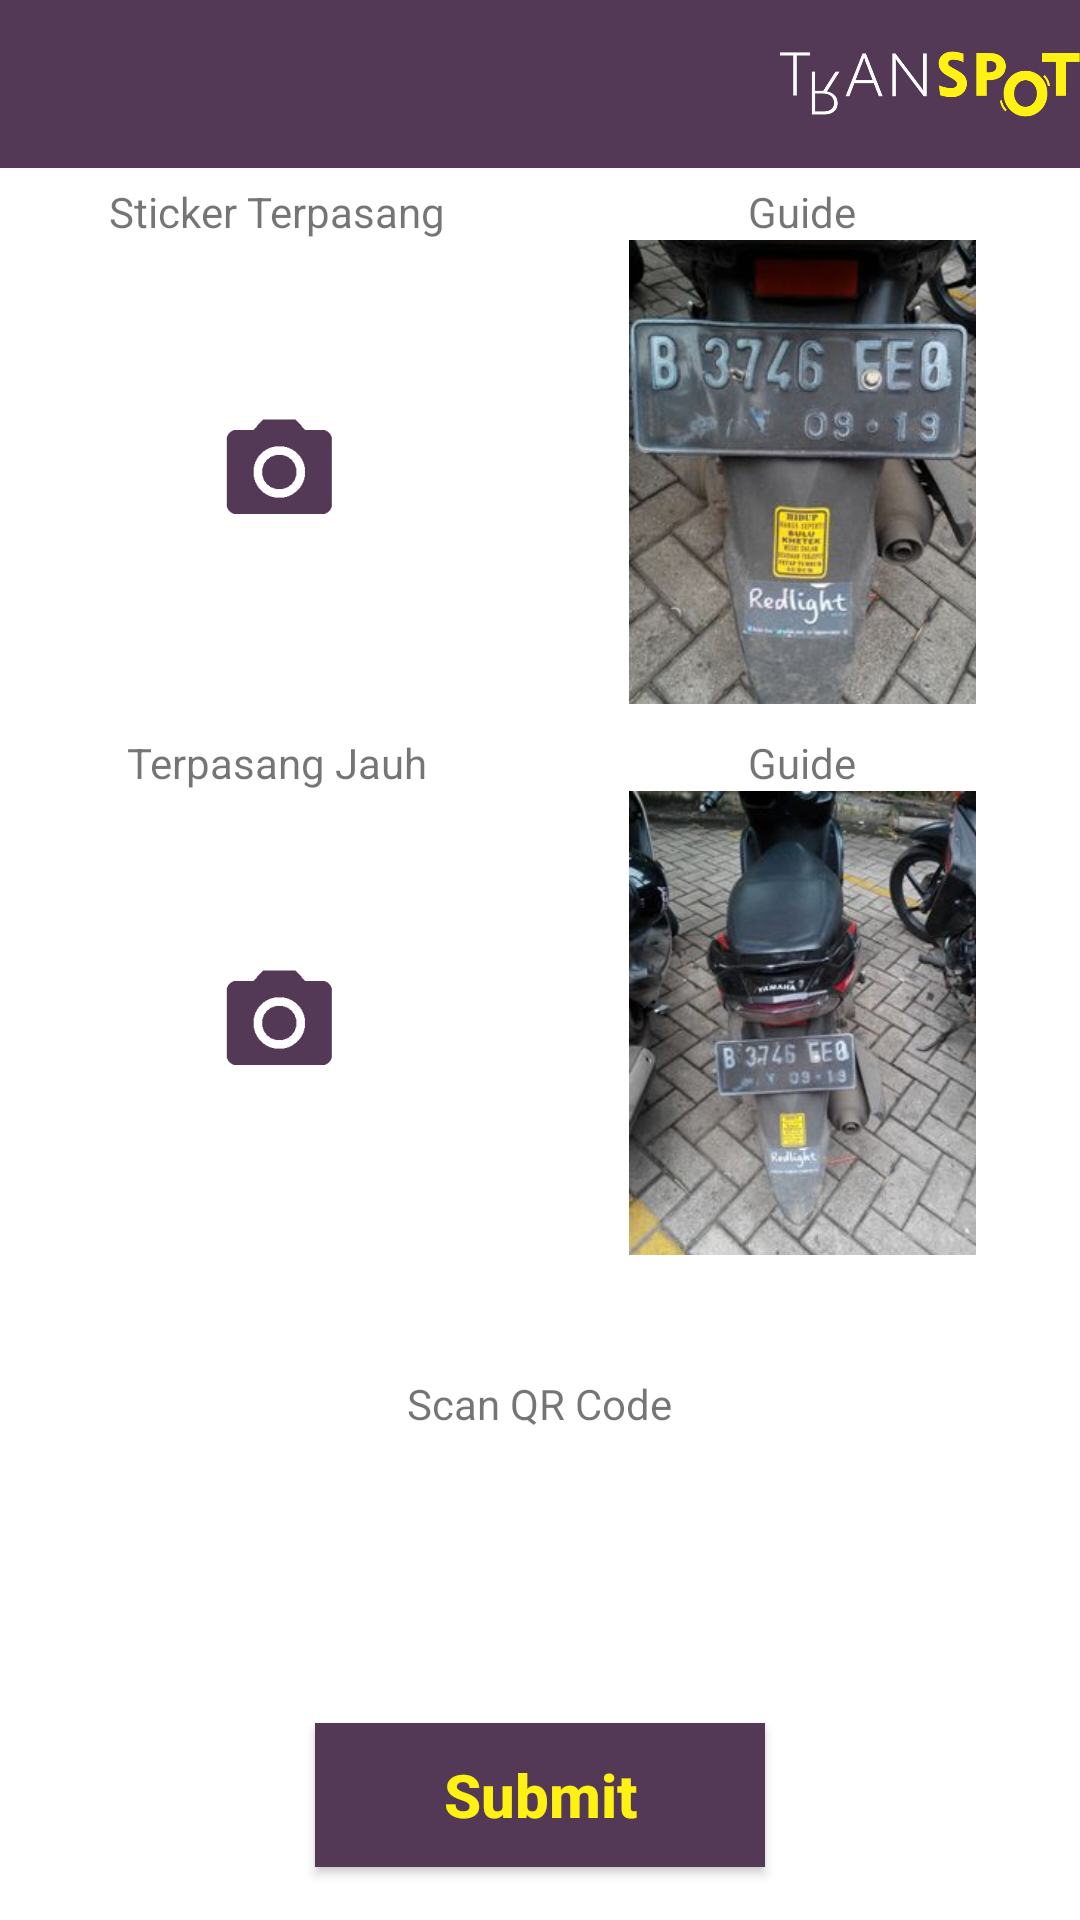

Icon bounding boxes for this 1080w x 1920h phone screenshot, format BBox(x1, y1, x2, y2):
camera: BBox(226, 419, 332, 514), BBox(226, 970, 332, 1065)
